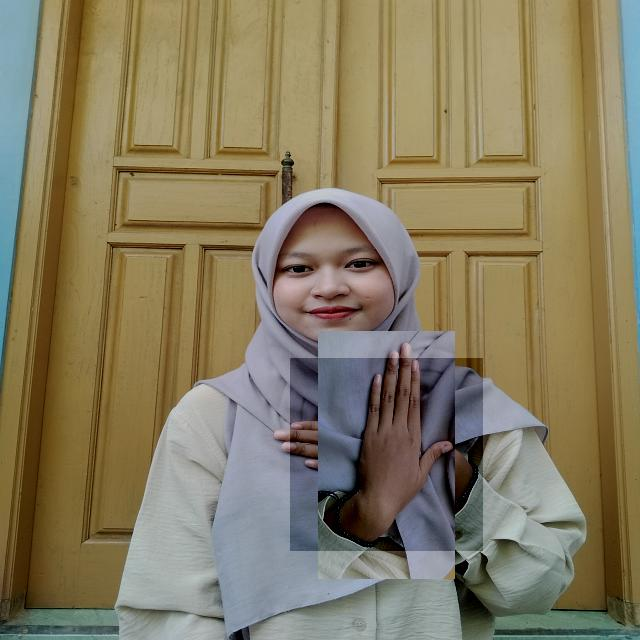tolong: (290, 358, 483, 551)
